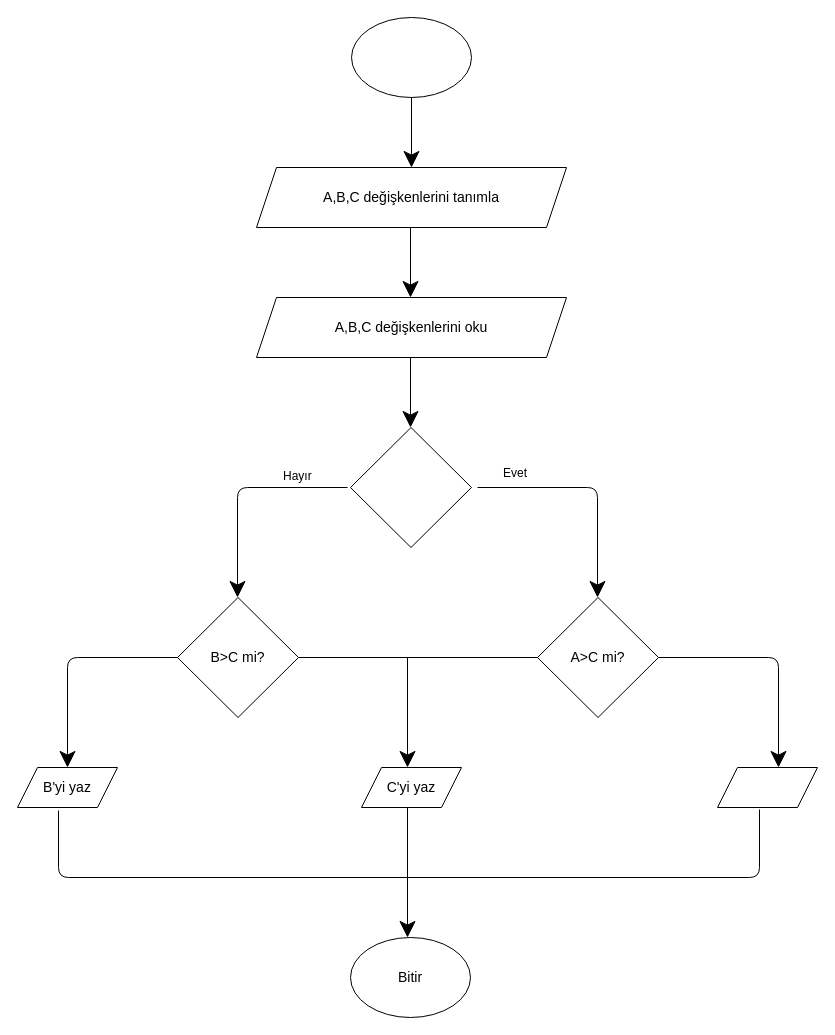
Image size: 835x1035. Some labels were removed from this diagram. The shapes that lost their labels are listed below. From the top down, each one's centre as x and y in pixels, then its label:
At pixel 411 57: "Başla".
At pixel 411 487: "A>B mi?".
At pixel 767 787: "A'yı yaz".
